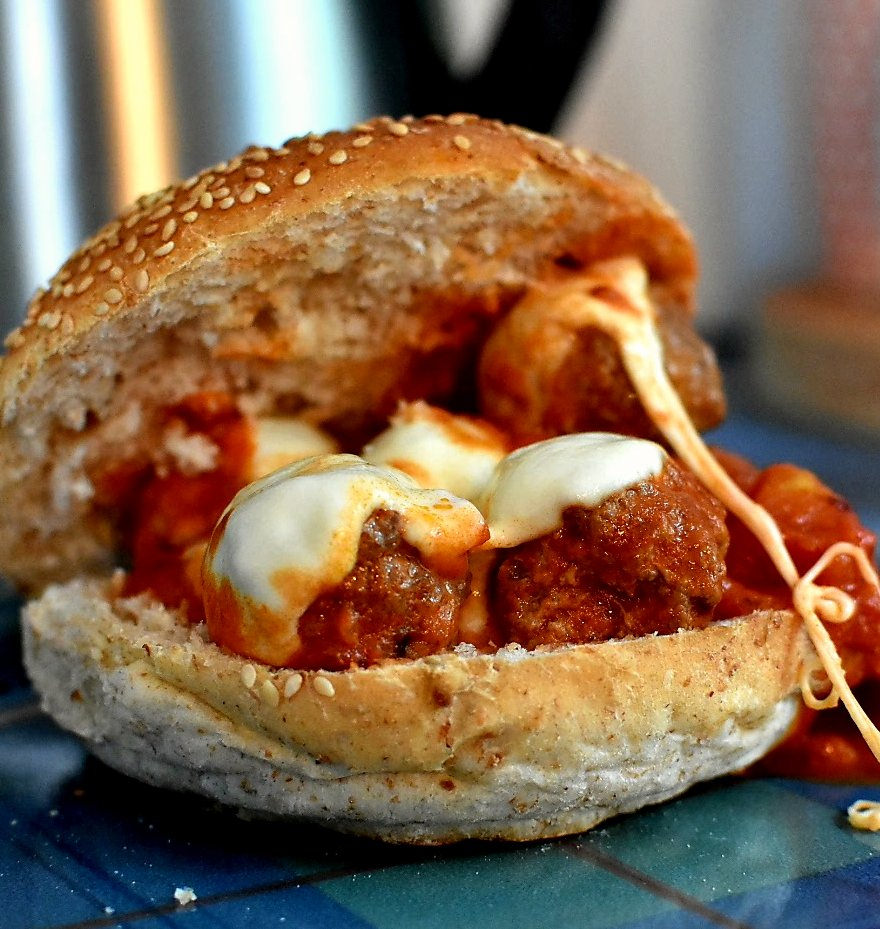meatballs: (210, 466, 507, 659), (503, 444, 734, 634), (494, 275, 738, 454)
slice of bread: (36, 585, 808, 833), (8, 102, 715, 358)
